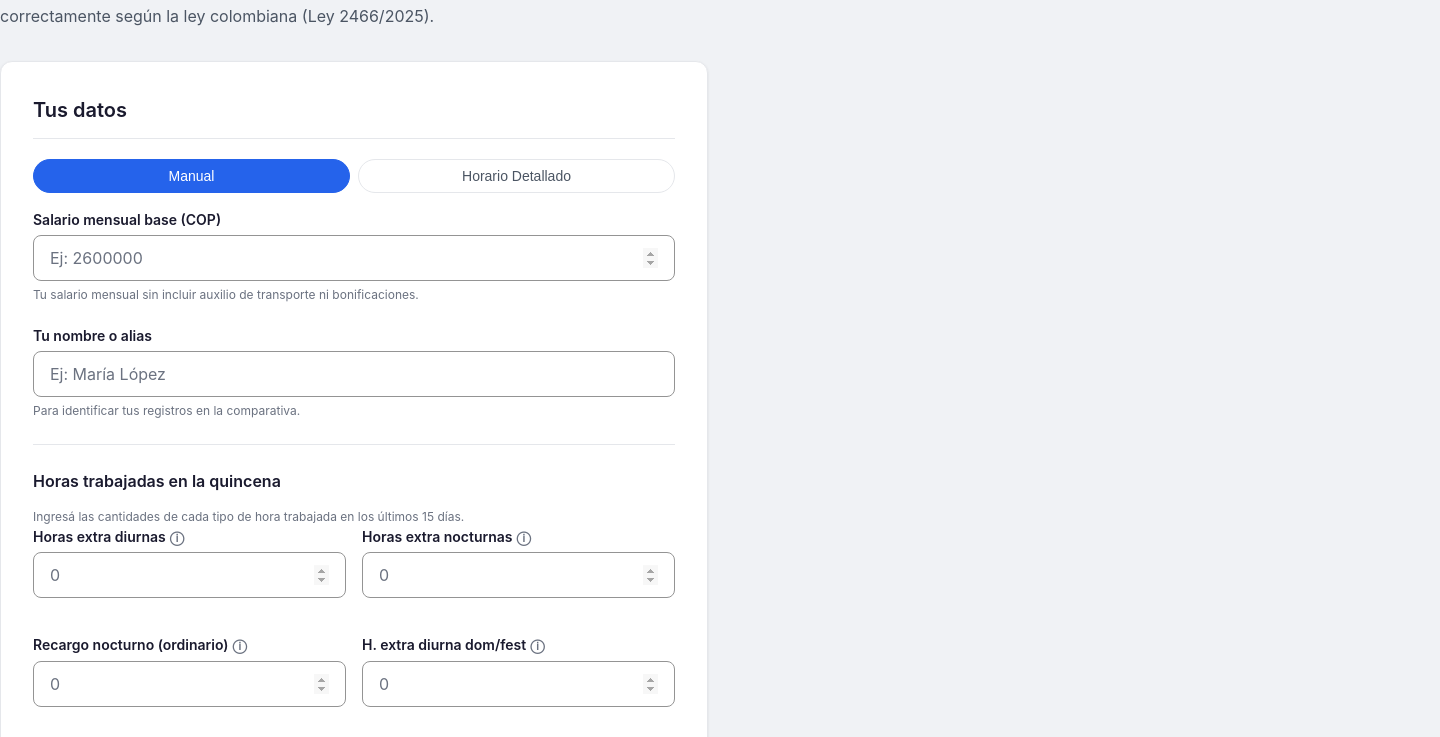
Test: CalculatorPage — history save/load › clears the form when clear button is pressed
Step 1. Type "1300000" into the number field labelled "Salario mensual base (COP)" → (354, 259), box [33,236,675,282]
(page scrolled)
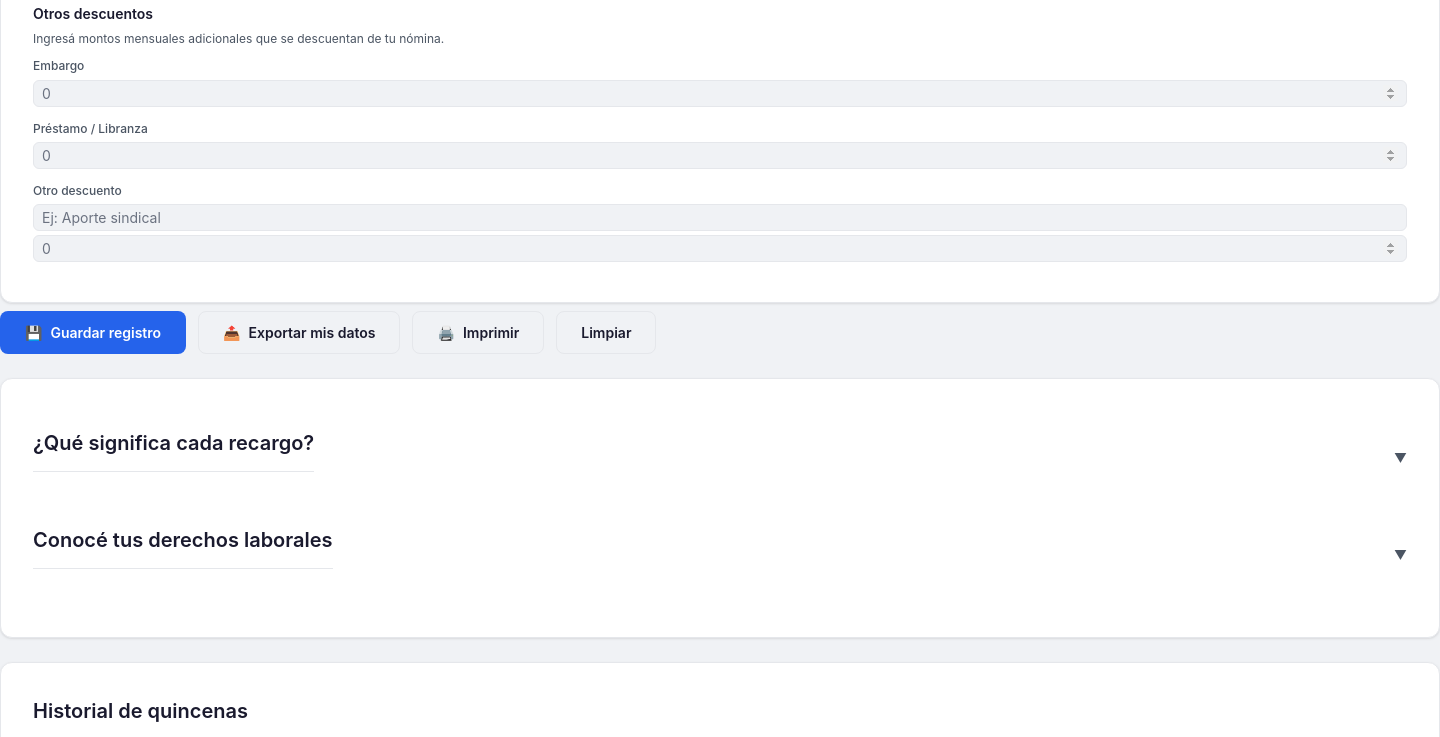
Step 2. Click the button "Limpiar" → (606, 333), box [556,312,656,354]
(page scrolled)
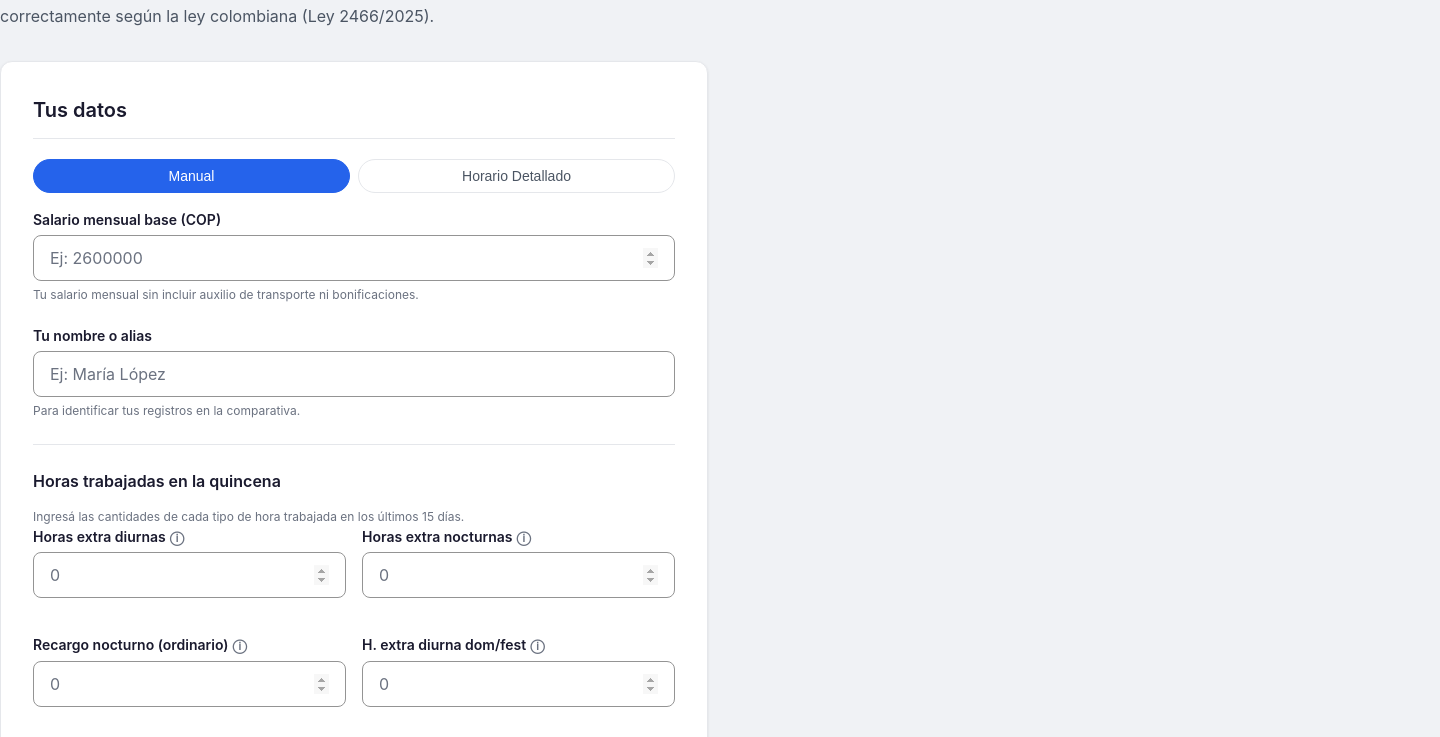
Now the number field labelled "Salario mensual base (COP)" is empty, box [33,236,675,282]
